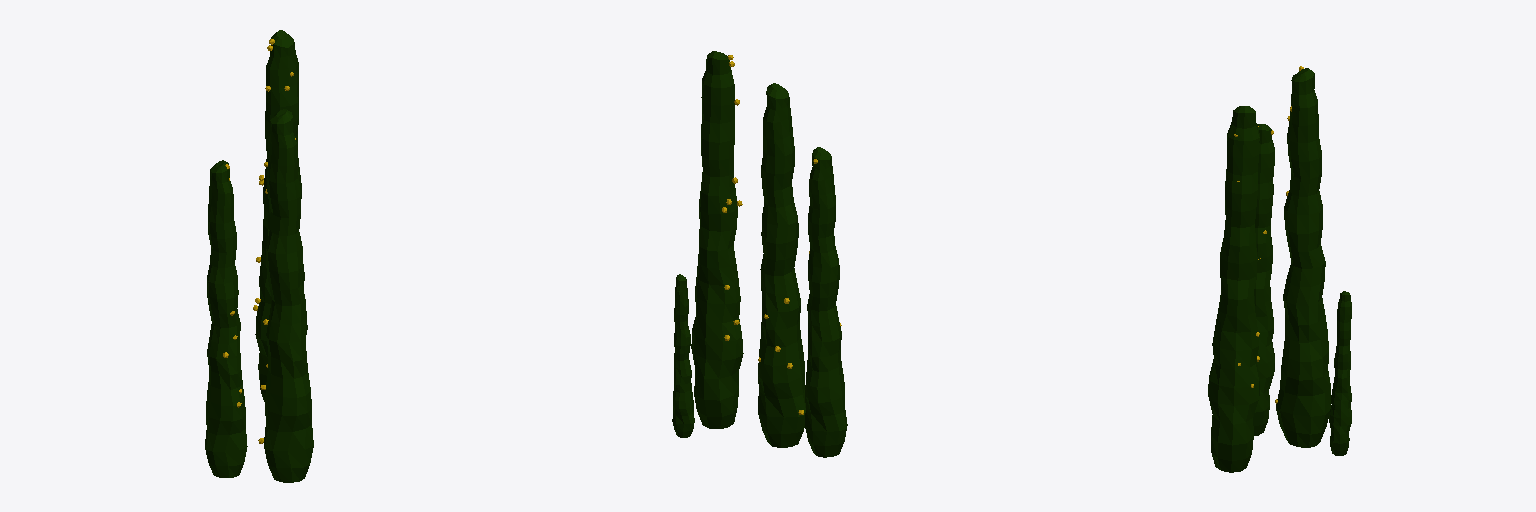
File: cactus3.obj
3 views of the same model, side by side, from view 1: azimuth 30°, elevation 25°; view 2: azimuth 150°, elevation 25°; view 3: azimuth 270°, elevation 25° (orthographic).
Parts seen in each view (by area): view 1: Cylinder.001_Cylinder; view 2: Cylinder.001_Cylinder; view 3: Cylinder.001_Cylinder.
Boxes of the visible parts, x1=… form: Cylinder.001_Cylinder: x1=205, y1=30, x2=313, y2=482; Cylinder.001_Cylinder: x1=672, y1=51, x2=847, y2=457; Cylinder.001_Cylinder: x1=1208, y1=68, x2=1351, y2=472.
Size of the model in its own units: 3.53 by 10.76 by 3.42.